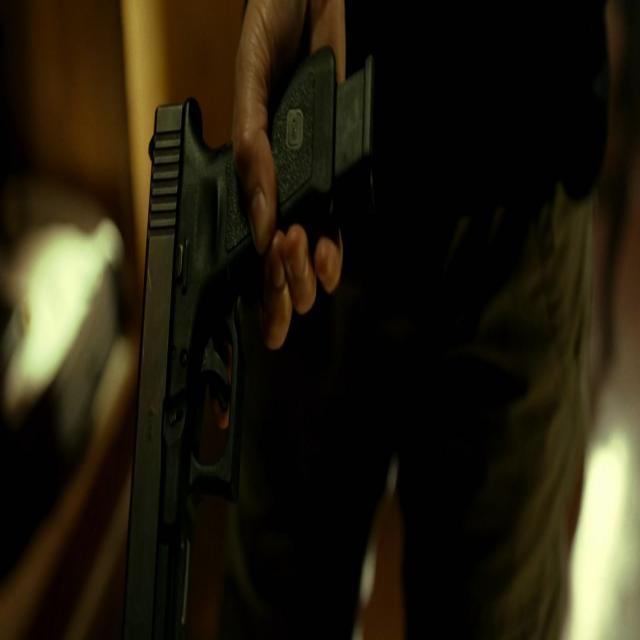gun-knife-thesis - v11 Yolov5 augmented: (97, 40, 394, 629)
